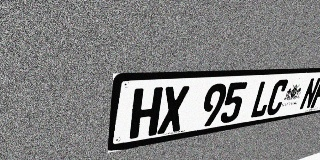5: (219, 82, 248, 124)
9: (199, 83, 229, 127)
C: (264, 79, 290, 116)
F: (310, 77, 320, 108)
H: (129, 87, 163, 139)
L: (249, 80, 275, 119)
N: (298, 77, 320, 110)
X: (157, 85, 190, 135)
